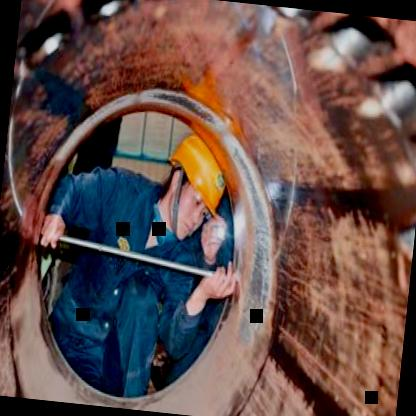helmet: (154, 115, 246, 248)
